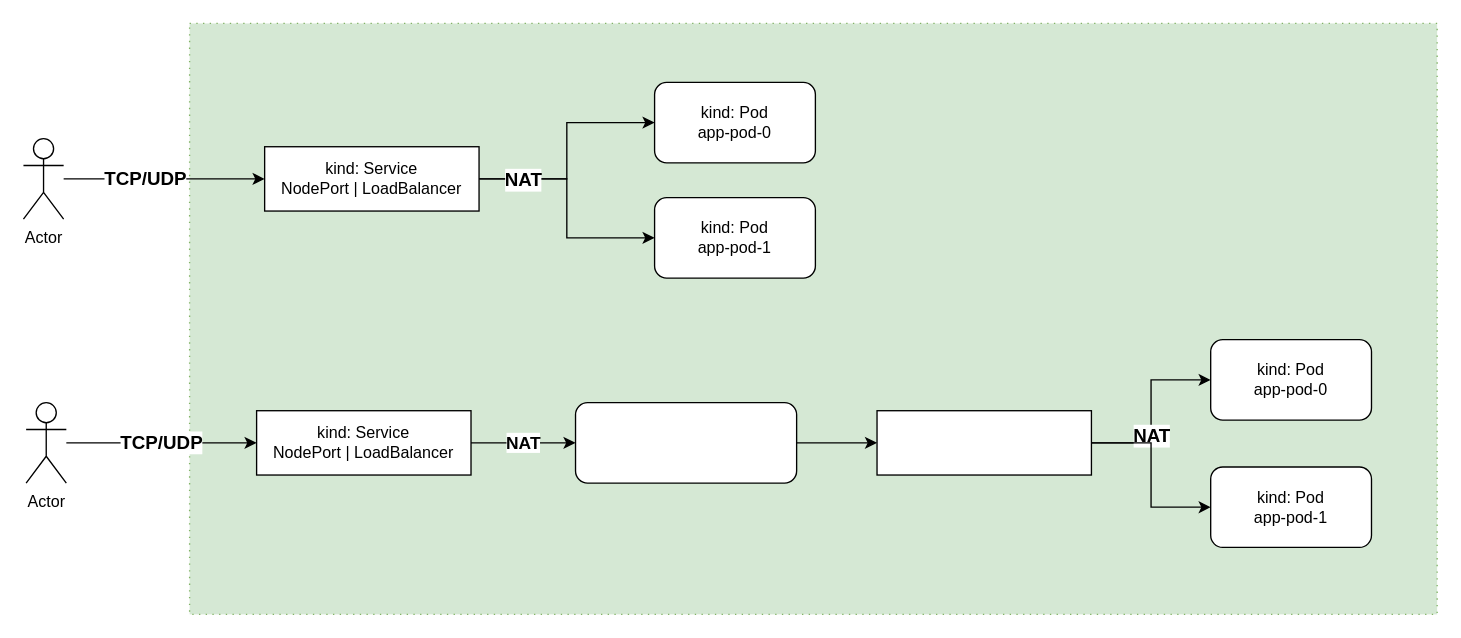
Image size: 1461x638. Some labels were removed from this diagram. Here are the shapes that lost their labels. From the top down, the box of each, then its label:
(574, 401, 797, 483): kind: Pod ingress|gateway controller
(876, 409, 1091, 475): kind: Service ClusterIP
